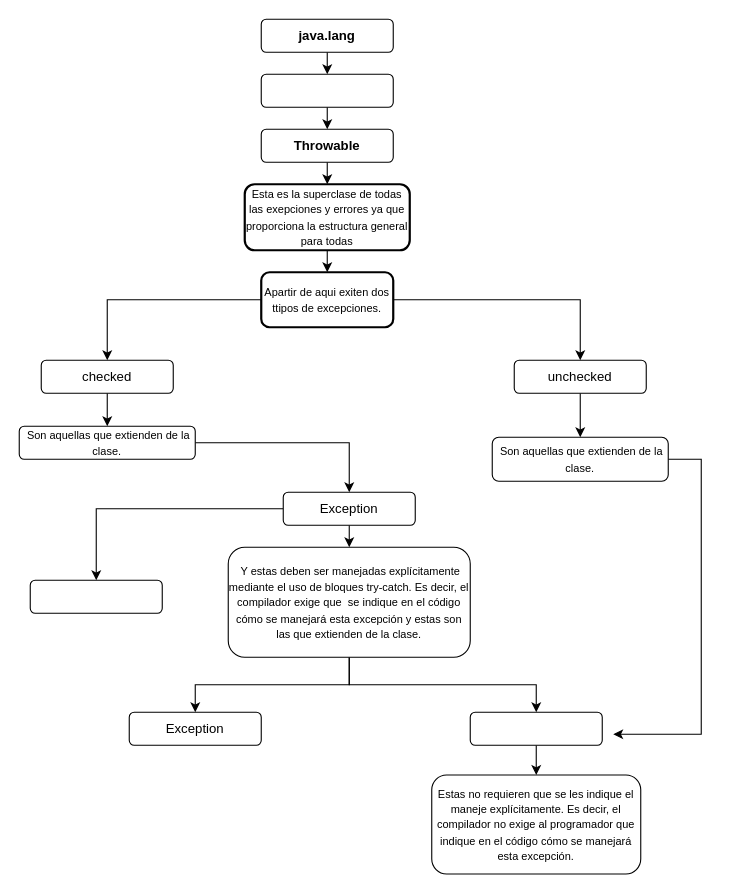
Image size: 729x893. Some labels were removed from this diagram. The shapes that lost their labels are listed below. From the top down, each one's centre as x and y in pixels, then its label:
At pixel 326 90: "Object".
At pixel 95 596: "Otras".
At pixel 535 728: "Runtime Exception".
